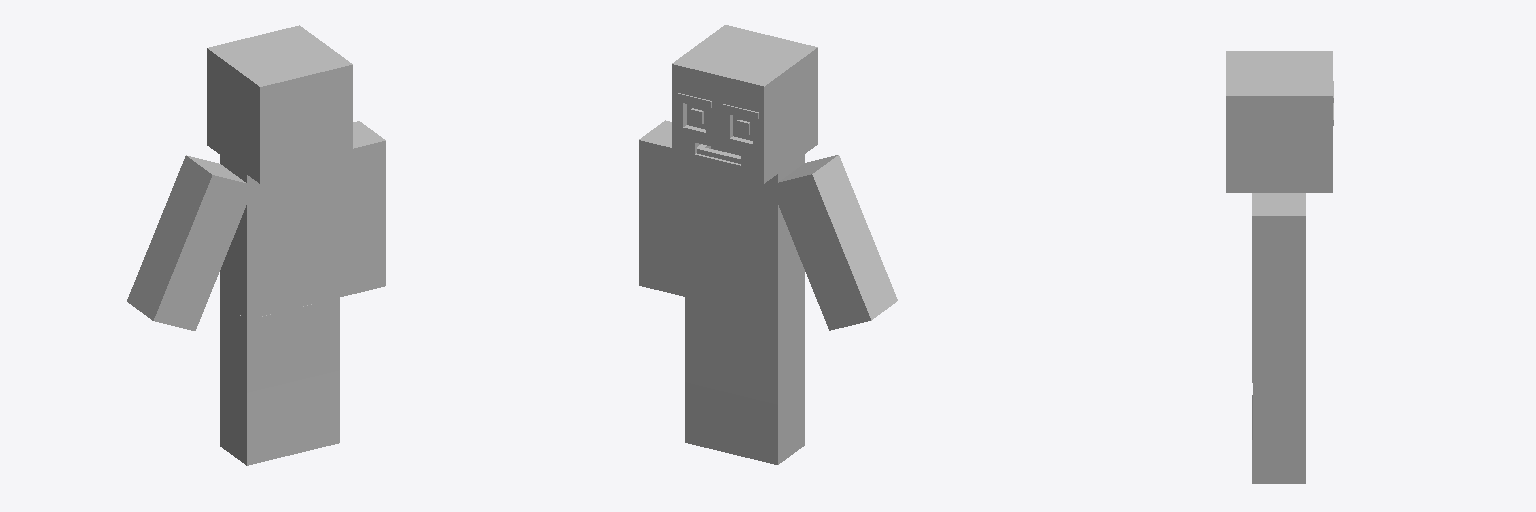
Rendered from steve_animate_000003.obj.
3 renders of one model, left to right at view 1: azimuth 30°, elevation 25°; view 2: azimuth 150°, elevation 25°; view 3: azimuth 270°, elevation 25°, orthographic.
Parts seen in each view (by area): view 1: Mesh.001_Head, Body_Steve_Body.001, Arm_L_Arm_L.001, Leg_L_Leg_L.001, Arm_R_Arm_R.001, Leg_R_Leg_R.001; view 2: Mesh.001_Head, Body_Steve_Body.001, Arm_L_Arm_L.001, Leg_L_Leg_L.001, Arm_R_Arm_R.001, Leg_R_Leg_R.001; view 3: Mesh.001_Head, Arm_R_Arm_R.001, Leg_R_Leg_R.001.
Part boxes in pixels (x1,y1,x2,y2): Mesh.001_Head: (207, 25, 352, 183); Body_Steve_Body.001: (220, 155, 339, 319); Arm_L_Arm_L.001: (127, 155, 252, 330); Leg_L_Leg_L.001: (220, 301, 292, 465); Arm_R_Arm_R.001: (340, 121, 385, 296); Leg_R_Leg_R.001: (293, 298, 339, 454); Mesh.001_Head: (672, 25, 817, 183); Body_Steve_Body.001: (685, 154, 804, 319); Arm_L_Arm_L.001: (771, 155, 897, 330); Leg_L_Leg_L.001: (731, 300, 804, 464); Arm_R_Arm_R.001: (639, 120, 684, 296); Leg_R_Leg_R.001: (685, 297, 730, 453); Mesh.001_Head: (1226, 51, 1332, 192); Arm_R_Arm_R.001: (1252, 193, 1305, 360); Leg_R_Leg_R.001: (1252, 361, 1305, 483).
Bounding box in the file's own units: 4.01 × 6.4 × 1.62.